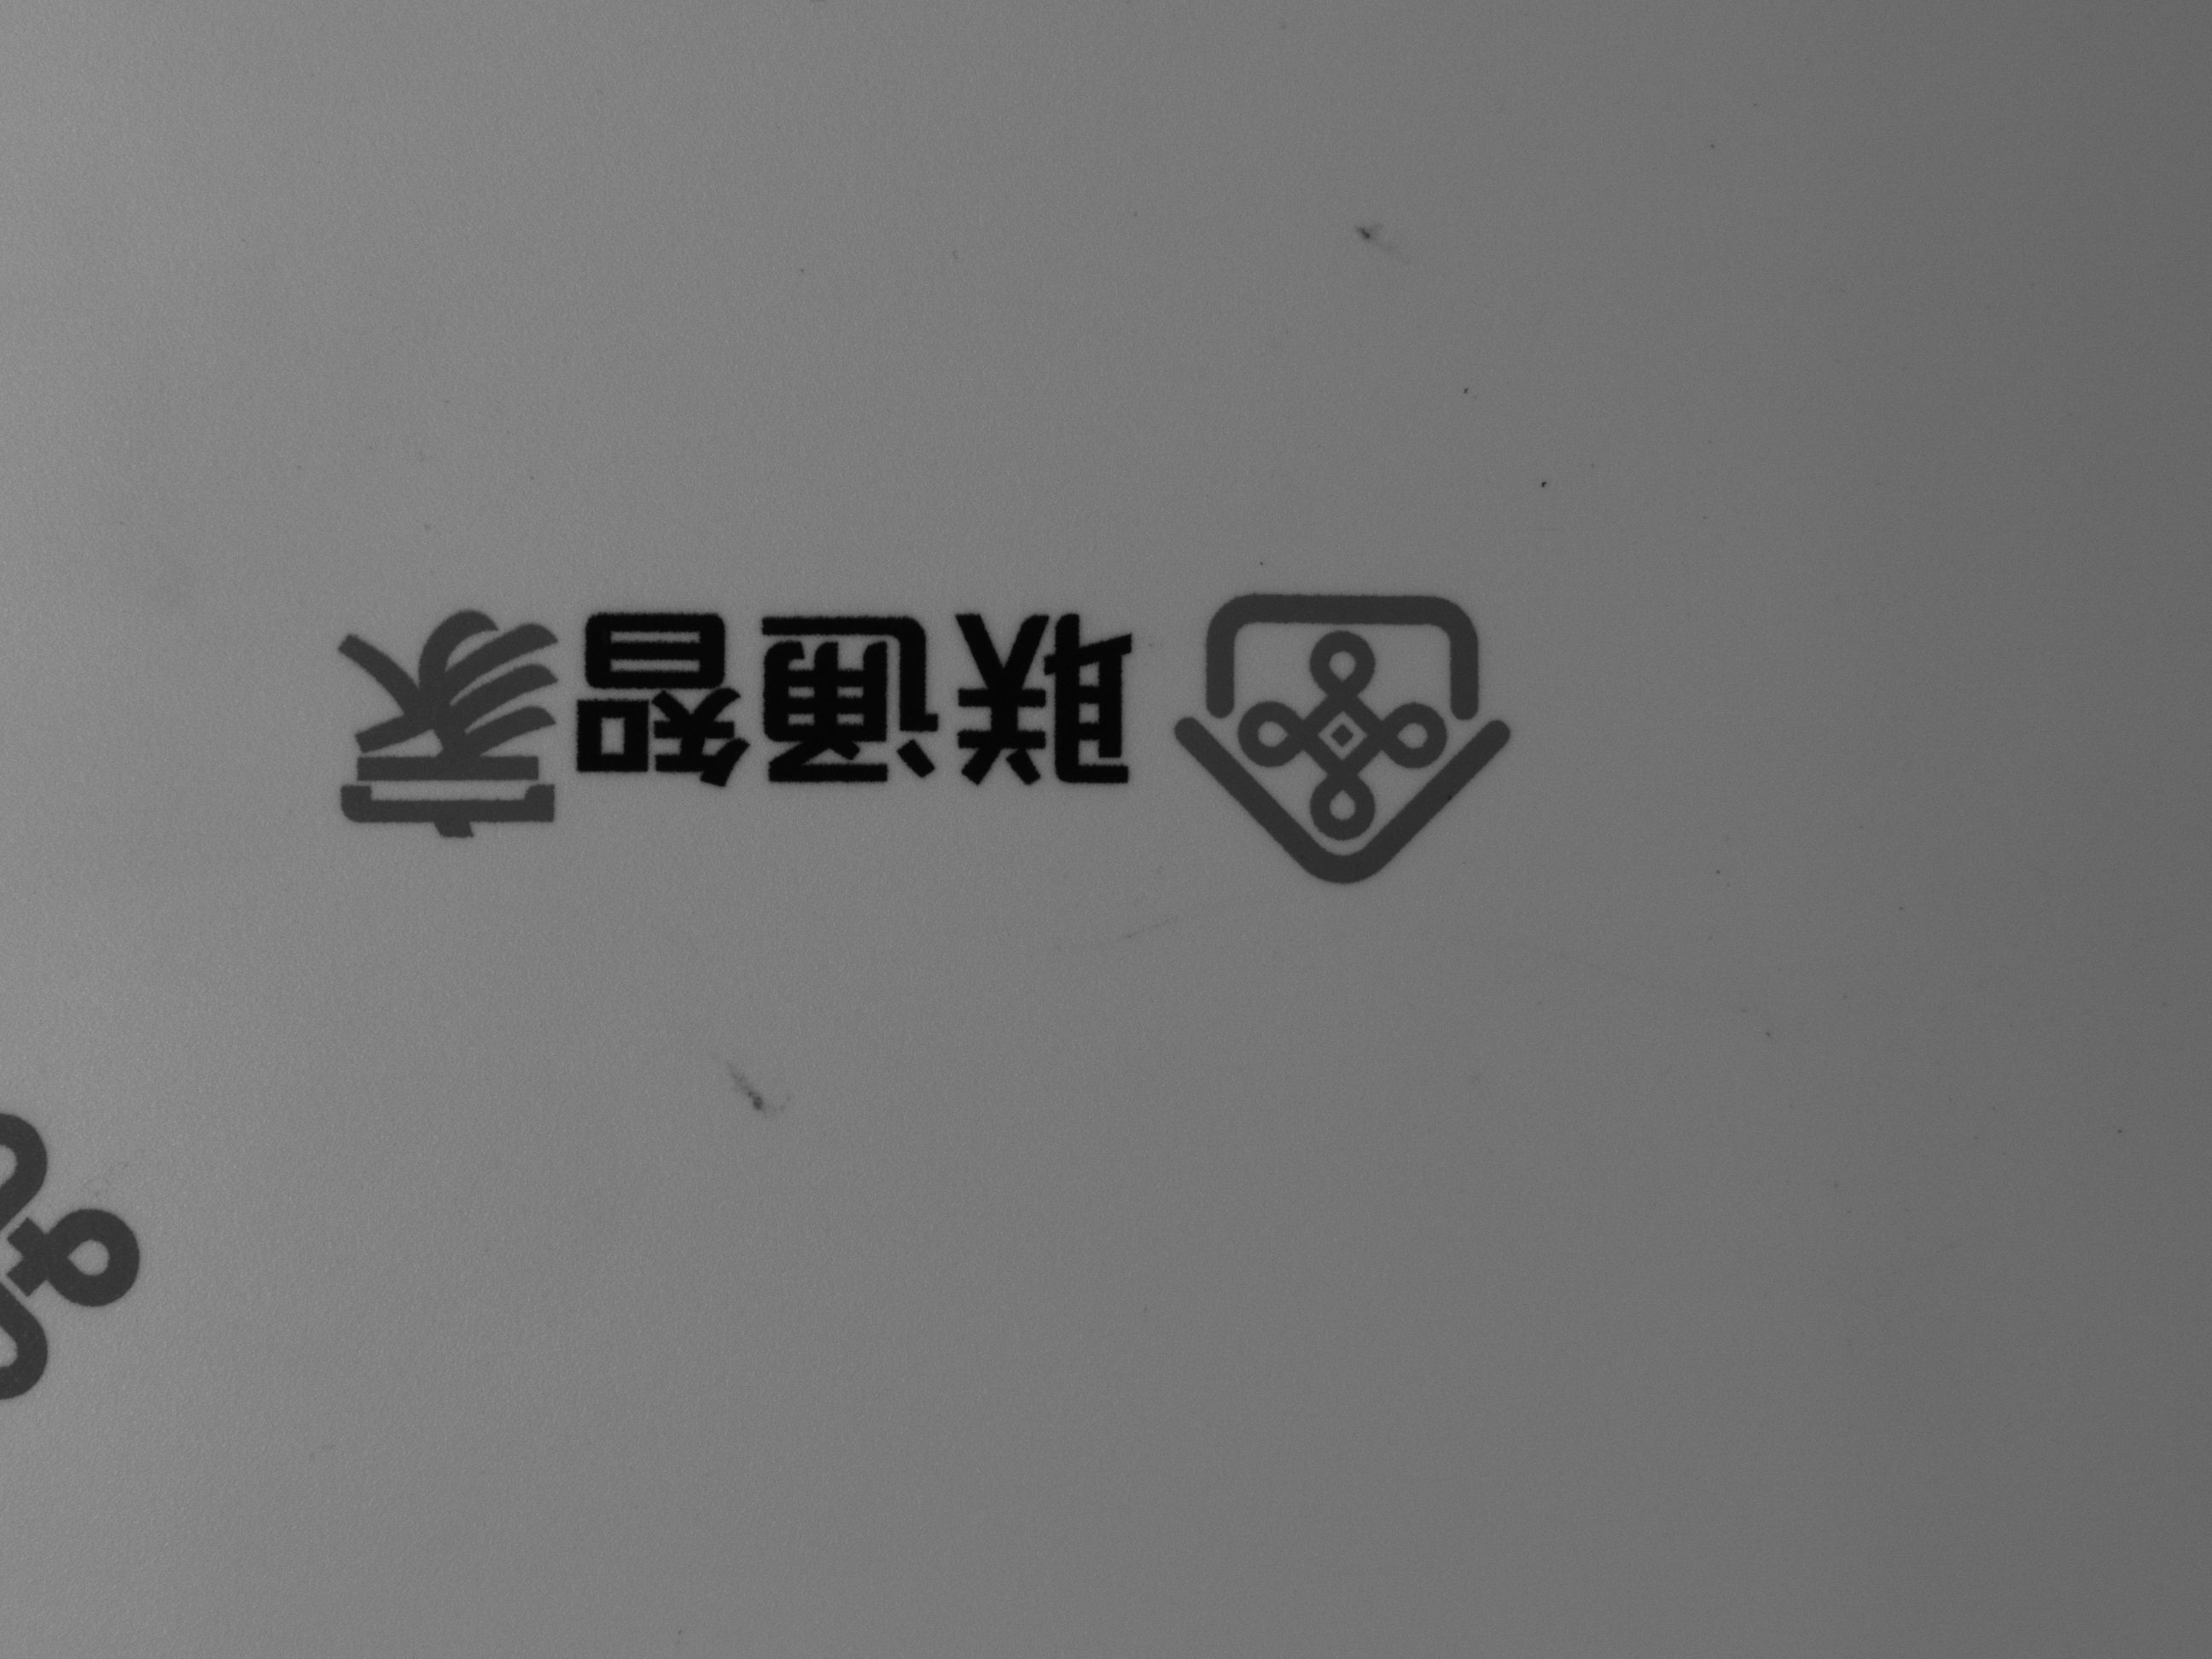BY_F6610Unicome: (280, 514, 1557, 897)
